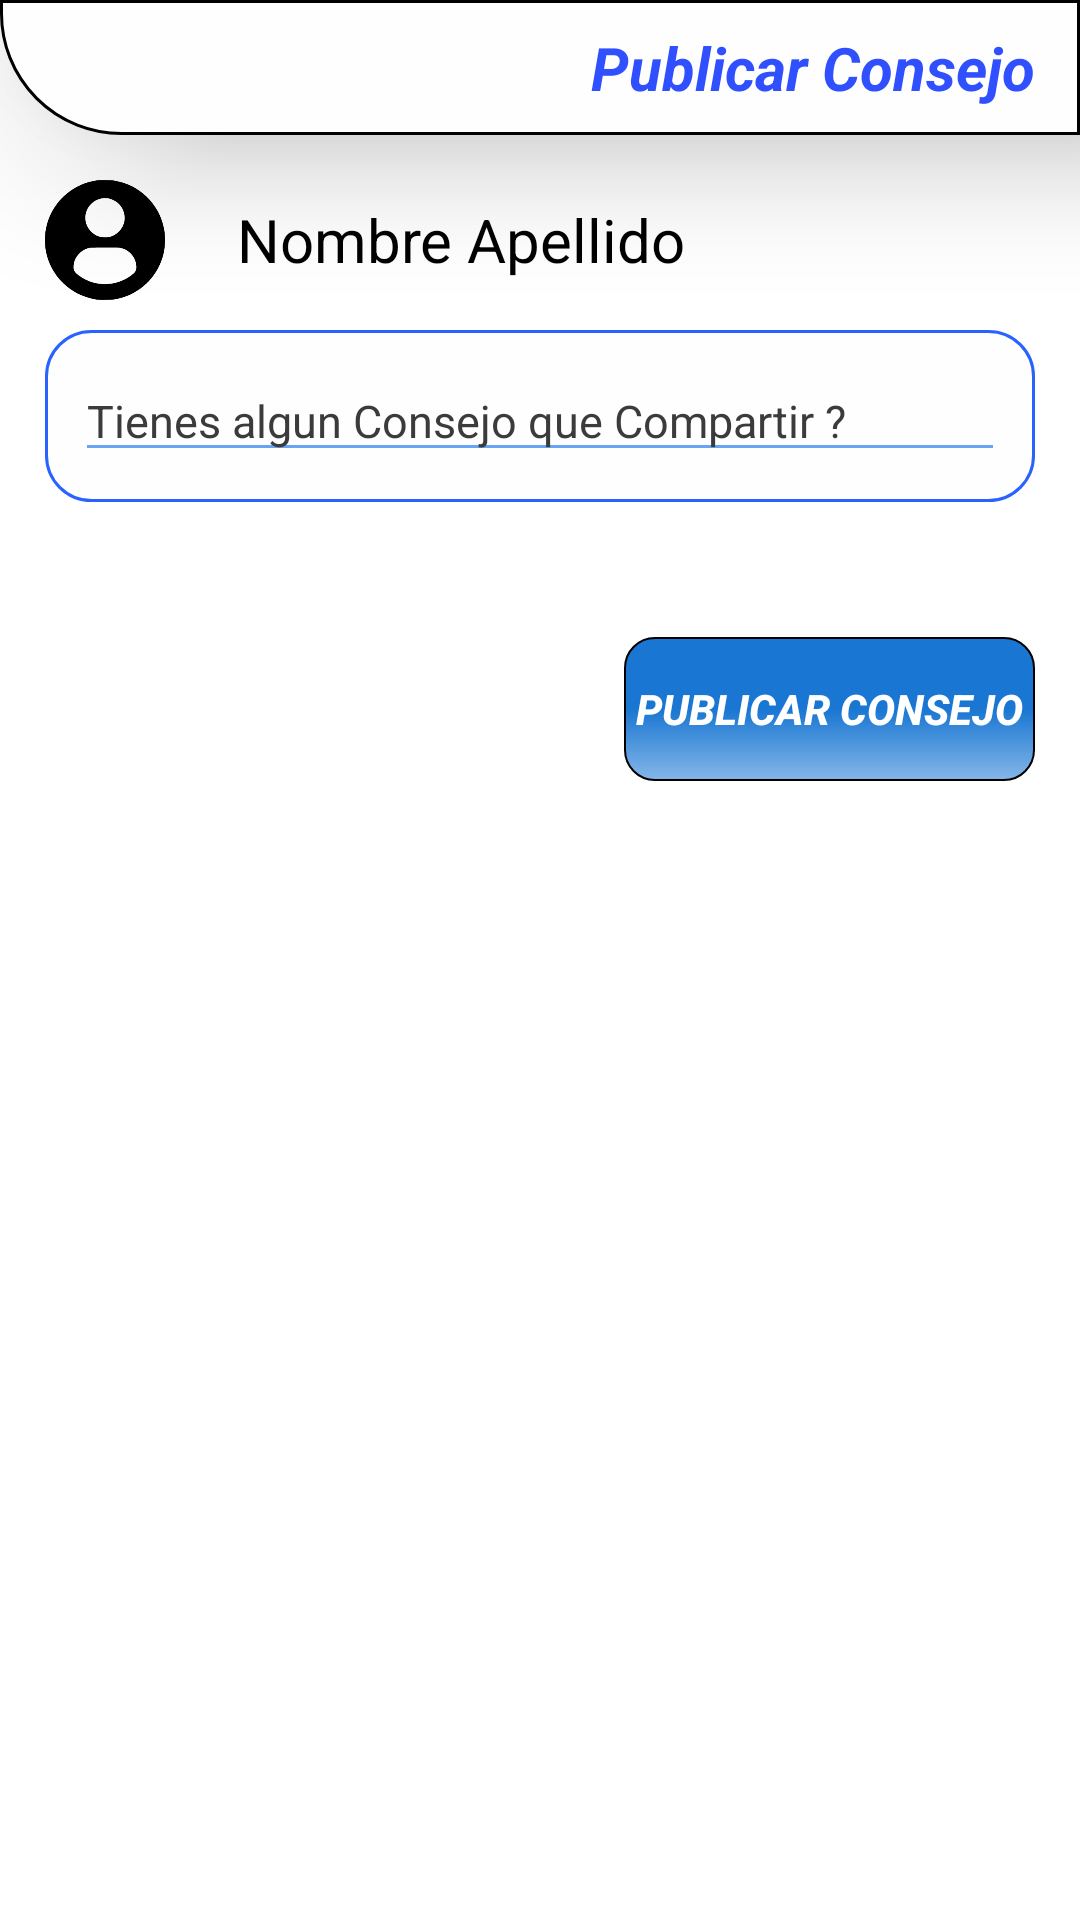

Locate icon controls on the screen. Image size 1080px x 1920px, boxes as detection(x1, y1, x2, y2).
profile user: detection(45, 180, 165, 300)
